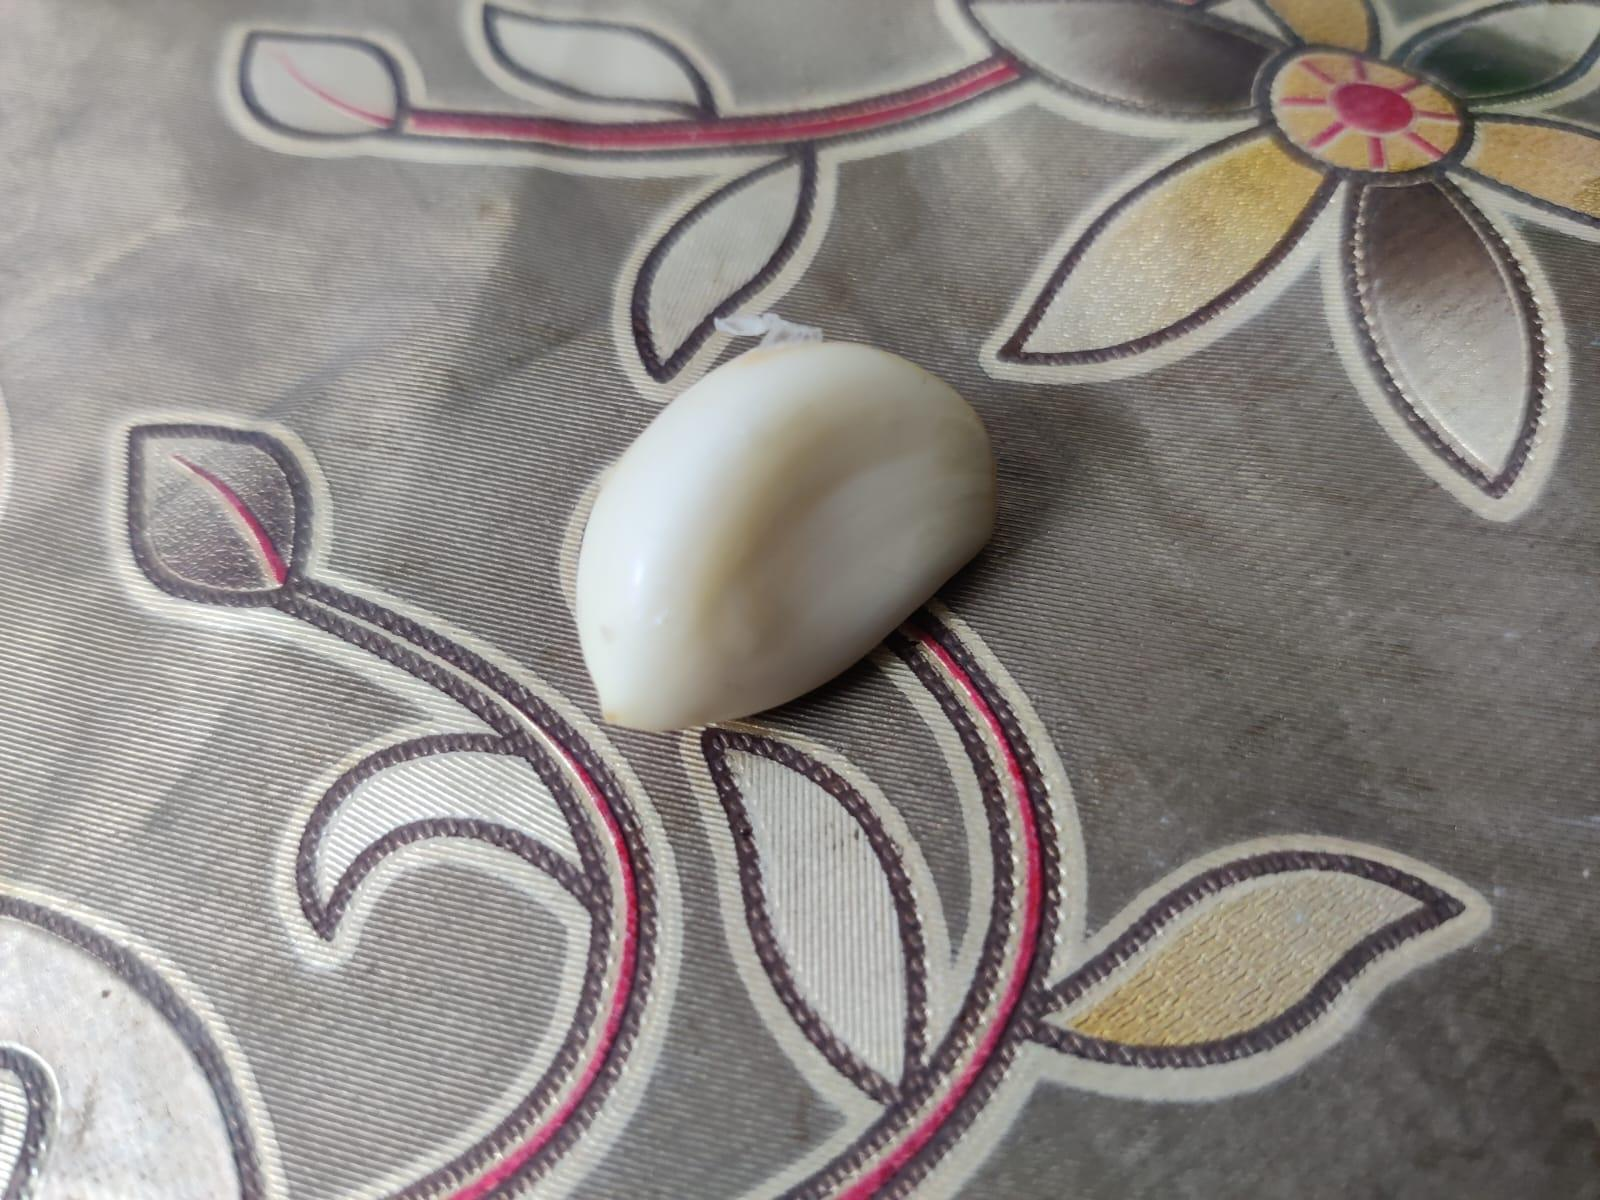non-mango: (567, 321, 1007, 736)
